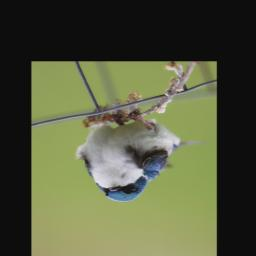Swallow: (74, 108, 210, 203)
